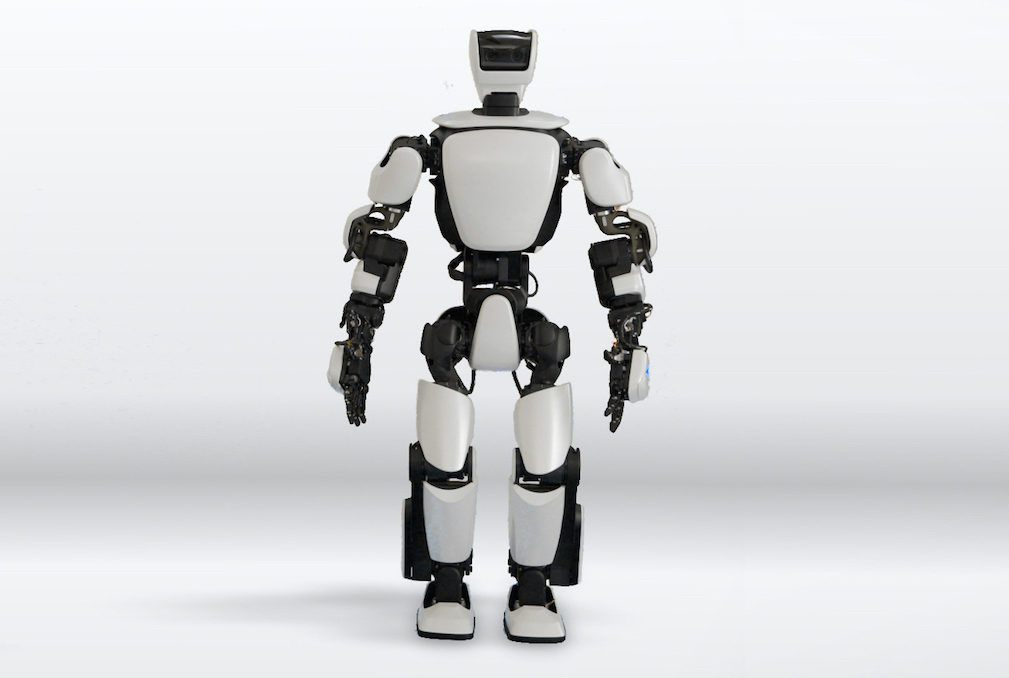person-like: (322, 21, 660, 656)
